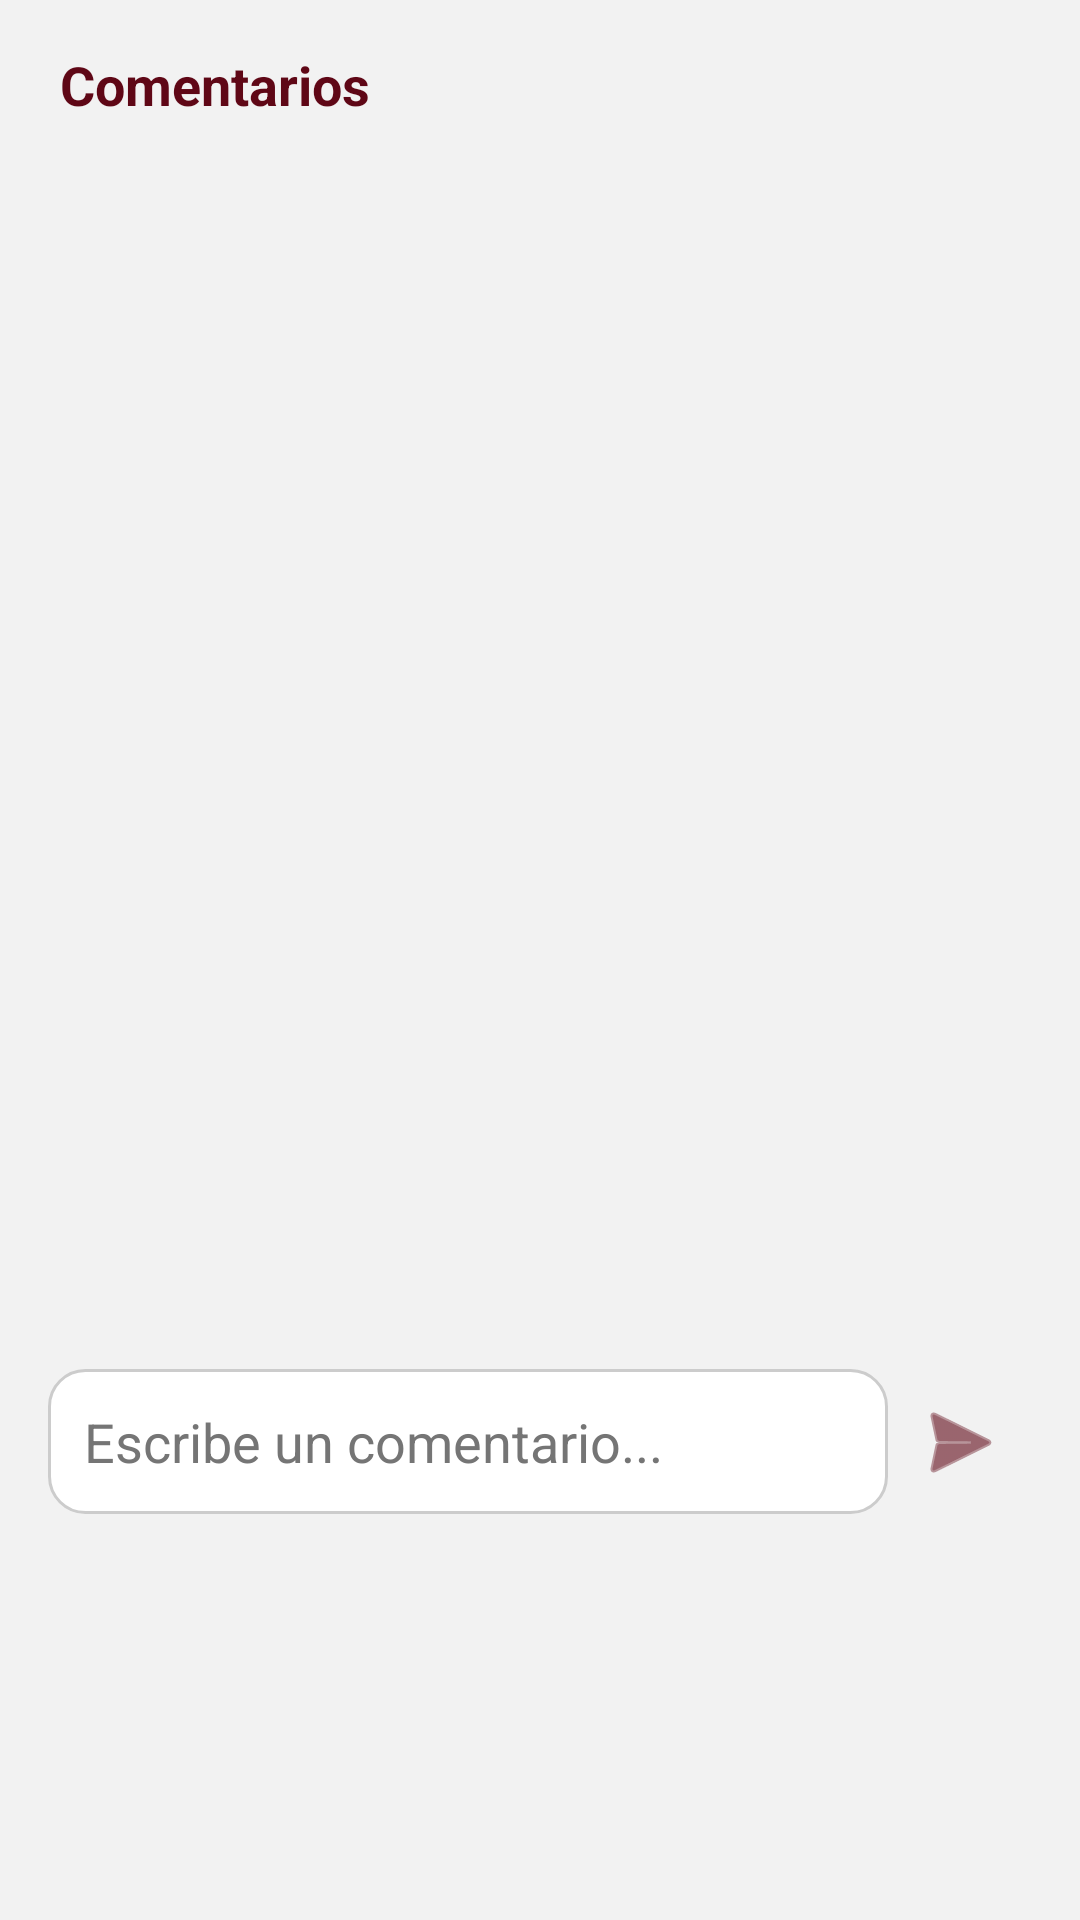

Named icons in this screenshot (1080x1920) and their centers, (x,y):
Enviar comentario: (961,1442)
